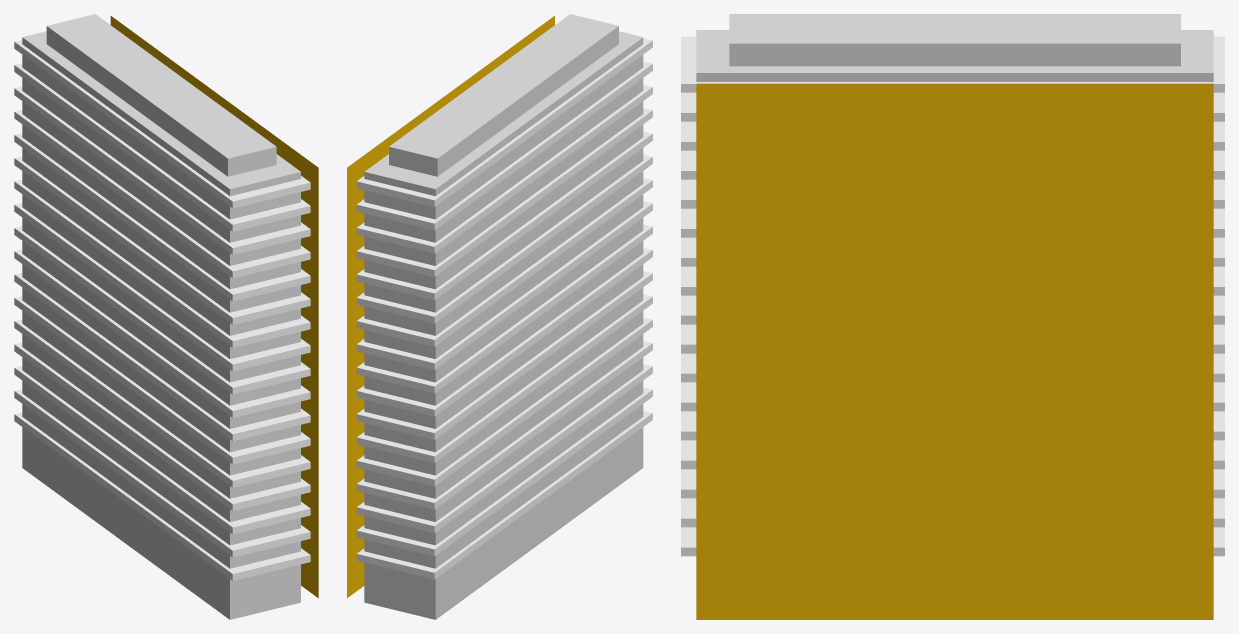
File: build_left.gltf
3 views of the same model, side by side, from view 1: azimuth 30°, elevation 25°; view 2: azimuth 150°, elevation 25°; view 3: azimuth 270°, elevation 25° (orthographic). The views are drawn at different scales.
Visible parts, largest first — view 1: Cube, Cube.4, clickorange, Cube 16, Cube 0, Cube 7, Cube 8, Cube 1, Cube 14, Cube 6, Cube 9, Cube 2 (+8 smaller); view 2: Cube, Cube.4, clickorange, Cube 0, Cube 7, Cube 2, Cube 11, Cube 15, Cube 1, Cube 4, Cube 9, Cube 13 (+8 smaller); view 3: clickorange, Cube.4, Cube, Cube 16, Cube 0, Cube 1, Cube 2, Cube 3, Cube 4, Cube 5, Cube 7, Cube 8 (+8 smaller).
Boxes of the visible parts, bbox=[...] form: Cube: bbox=[22, 31, 300, 619]; Cube.4: bbox=[46, 14, 276, 176]; clickorange: bbox=[110, 16, 318, 597]; Cube 16: bbox=[14, 40, 310, 208]; Cube 0: bbox=[14, 412, 310, 580]; Cube 7: bbox=[14, 249, 310, 417]; Cube 8: bbox=[14, 226, 310, 394]; Cube 1: bbox=[14, 389, 310, 557]; Cube 14: bbox=[14, 86, 310, 254]; Cube 6: bbox=[14, 273, 310, 441]; Cube 9: bbox=[14, 203, 310, 371]; Cube 2: bbox=[14, 366, 310, 534]; Cube: bbox=[364, 31, 643, 619]; Cube.4: bbox=[389, 14, 618, 176]; clickorange: bbox=[347, 16, 554, 597]; Cube 0: bbox=[356, 410, 652, 579]; Cube 7: bbox=[356, 248, 652, 416]; Cube 2: bbox=[356, 364, 652, 533]; Cube 11: bbox=[356, 154, 652, 323]; Cube 15: bbox=[356, 61, 652, 230]; Cube 1: bbox=[356, 387, 652, 556]; Cube 4: bbox=[356, 317, 652, 486]; Cube 9: bbox=[356, 201, 652, 370]; Cube 13: bbox=[356, 108, 652, 276]; clickorange: bbox=[696, 83, 1213, 619]; Cube.4: bbox=[729, 14, 1180, 66]; Cube: bbox=[696, 30, 1213, 81]; Cube 16: bbox=[681, 36, 1224, 92]; Cube 0: bbox=[681, 527, 1224, 556]; Cube 1: bbox=[681, 498, 1224, 527]; Cube 2: bbox=[681, 469, 1224, 498]; Cube 3: bbox=[681, 440, 1224, 469]; Cube 4: bbox=[681, 411, 1224, 440]; Cube 5: bbox=[681, 382, 1224, 411]; Cube 7: bbox=[681, 324, 1224, 353]; Cube 8: bbox=[681, 295, 1224, 324].
Size of the model in its own units: 41.3 by 193 by 170.
